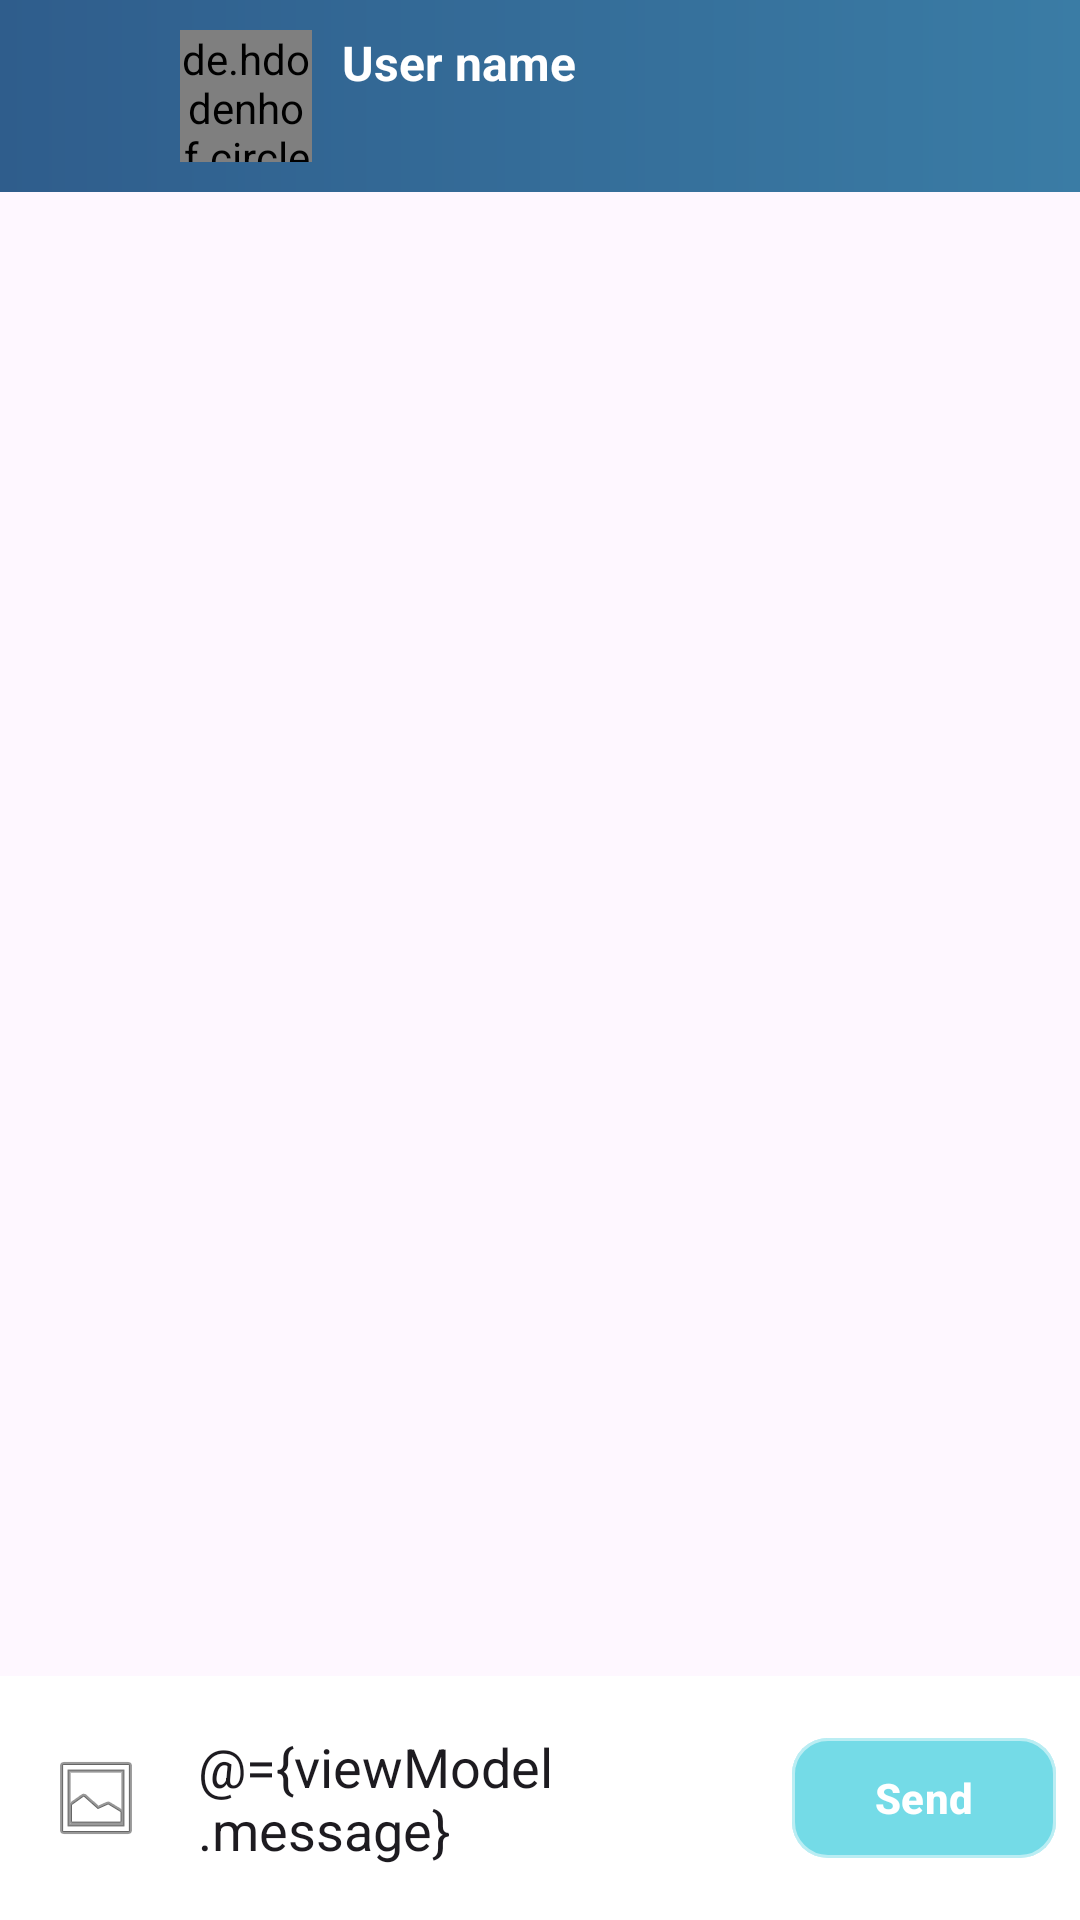

Icons on this 1080w x 1920h Android screen, each with its box as [x1,y1,x2,y2]:
Attach image: [60,1762,132,1834]
